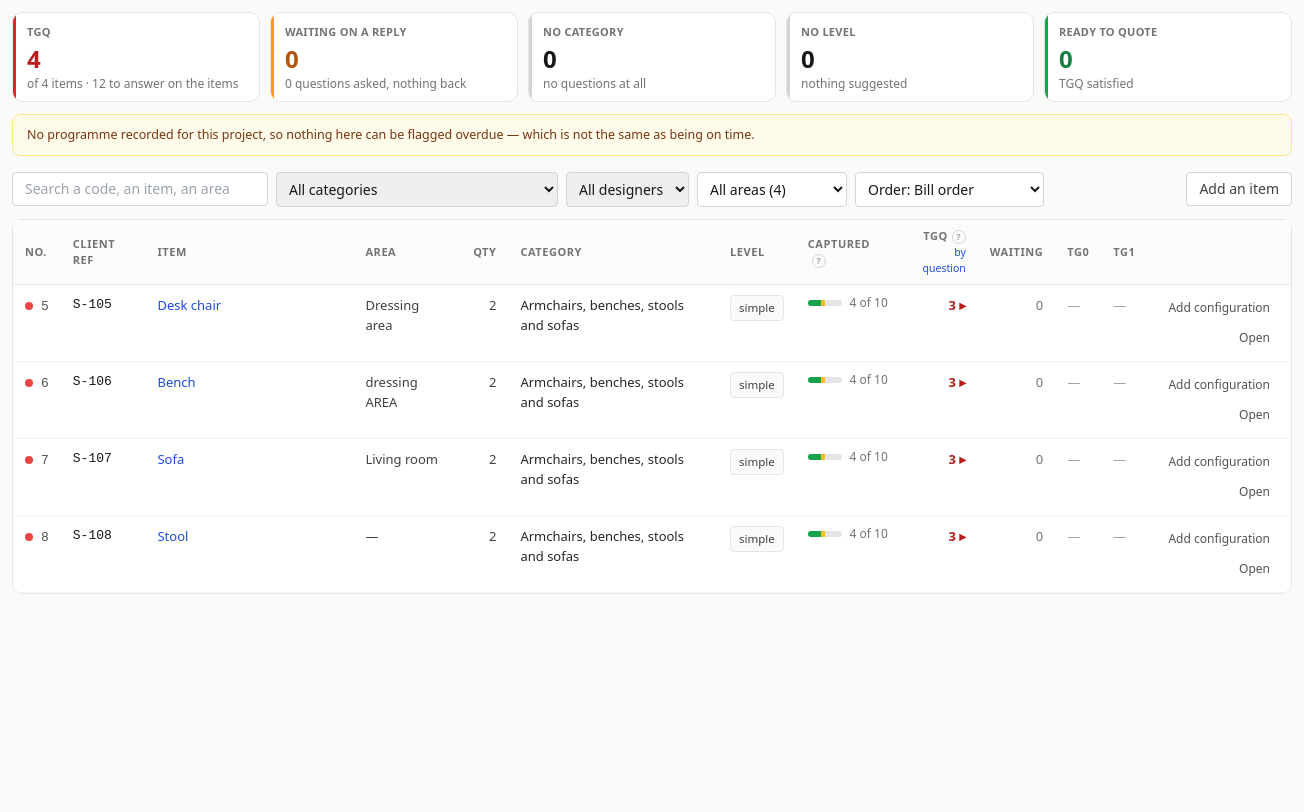
Test: the area select › lists only that area's records, merging the two spellings of one room
Select "Dressing area (2)" in the dropdown named "Filter by area" at (772, 189), box x1=697 y1=172 x2=847 y2=206
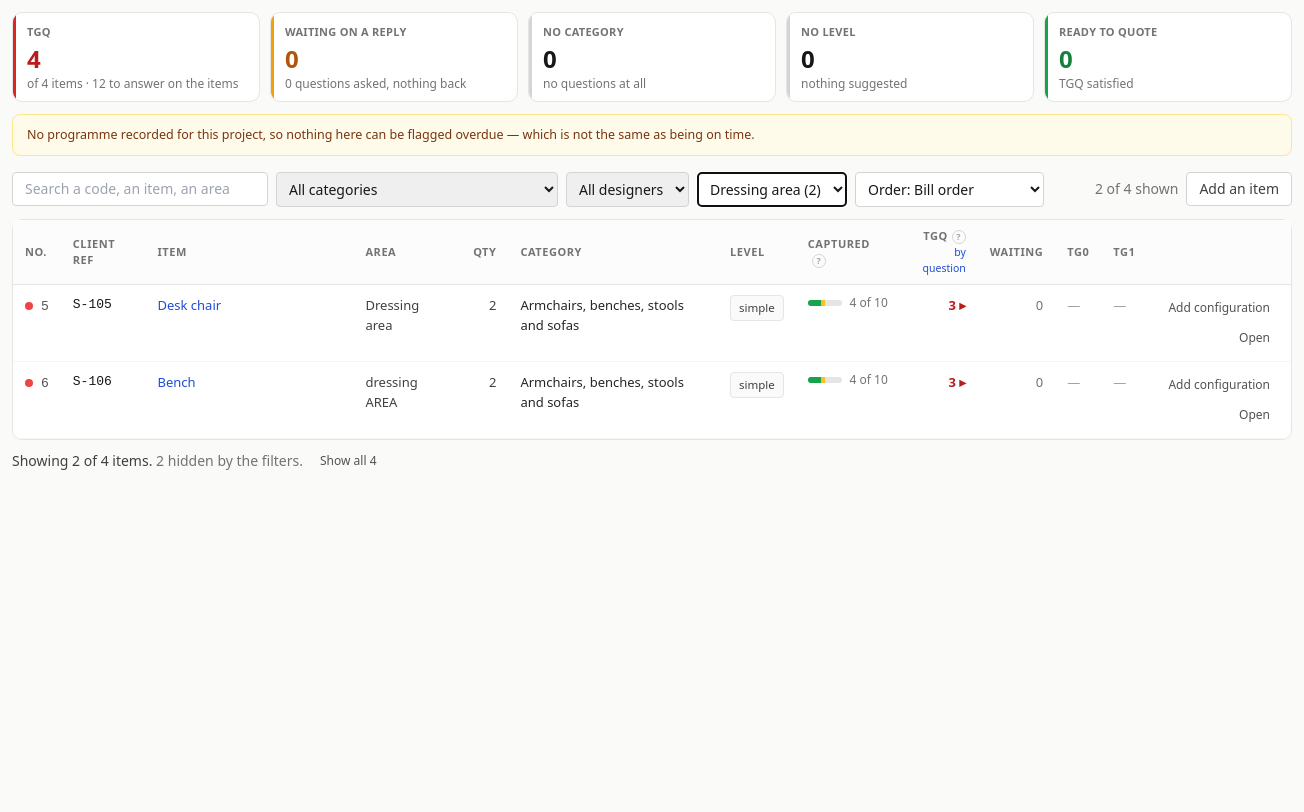
Expected: the text "Desk chair" is shown, x1=158 y1=296 x2=221 y2=314
Expected: the text "2 of 4 shown" is shown, x1=1095 y1=179 x2=1178 y2=199
